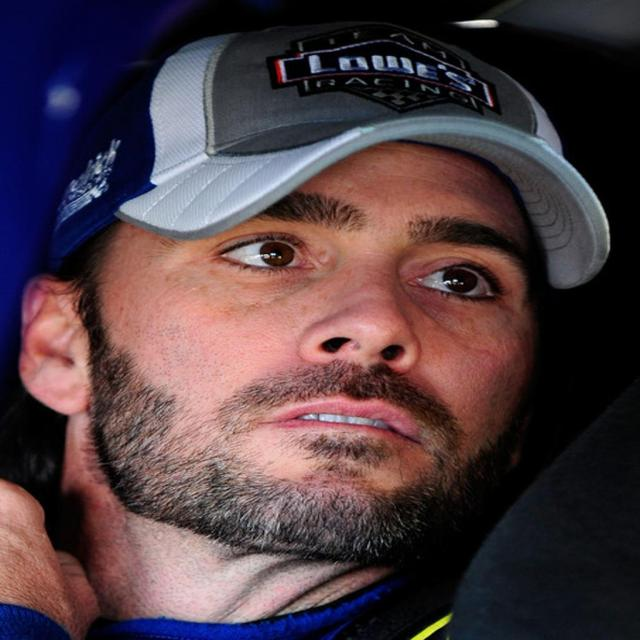Face: (76, 158, 565, 541)
